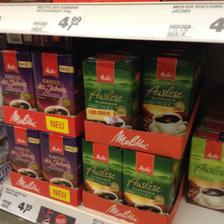Kaffee: (140, 48, 196, 134), (81, 50, 141, 130), (122, 148, 177, 216), (32, 48, 80, 116), (80, 137, 122, 201), (40, 130, 80, 187), (0, 46, 34, 110), (5, 123, 39, 177)
